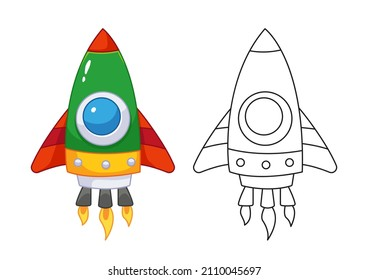roket: (29, 26, 177, 242), (192, 26, 339, 241)
